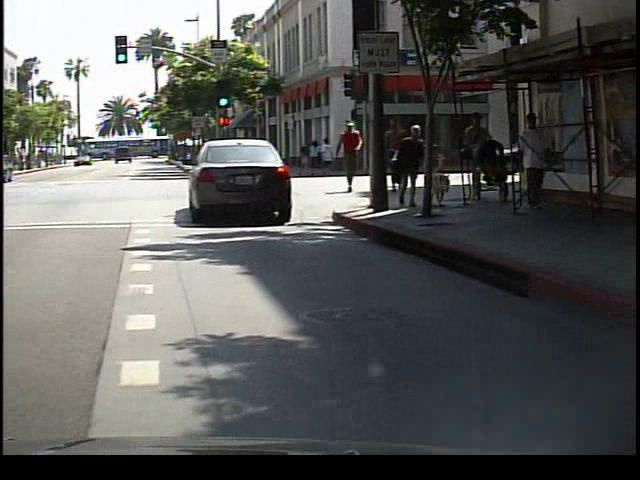person: (337, 115, 372, 198), (378, 111, 410, 196)
